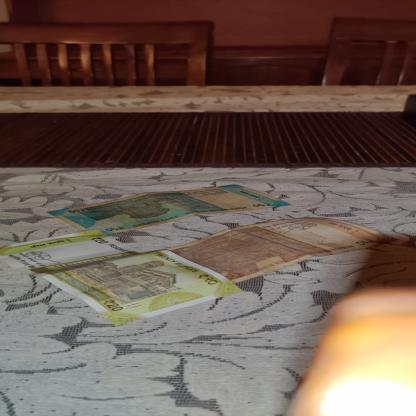New10Back: (164, 217, 398, 283)
New20Back: (0, 228, 244, 326)
New50Back: (46, 183, 293, 235)
